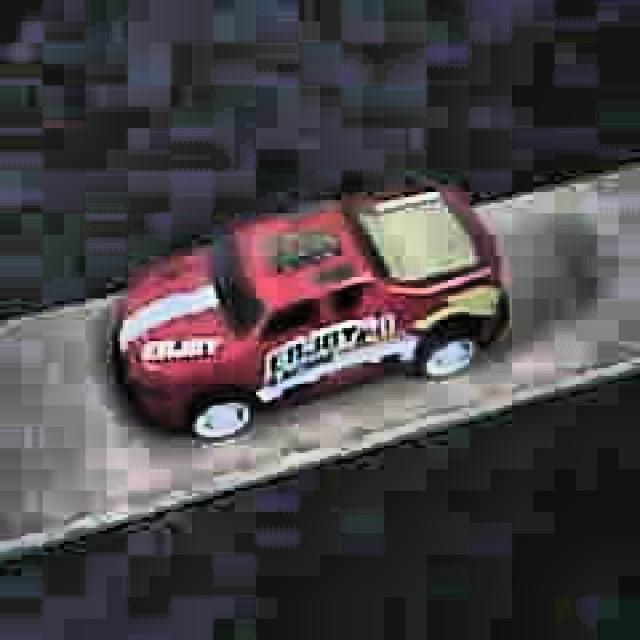car: (113, 180, 512, 447)
